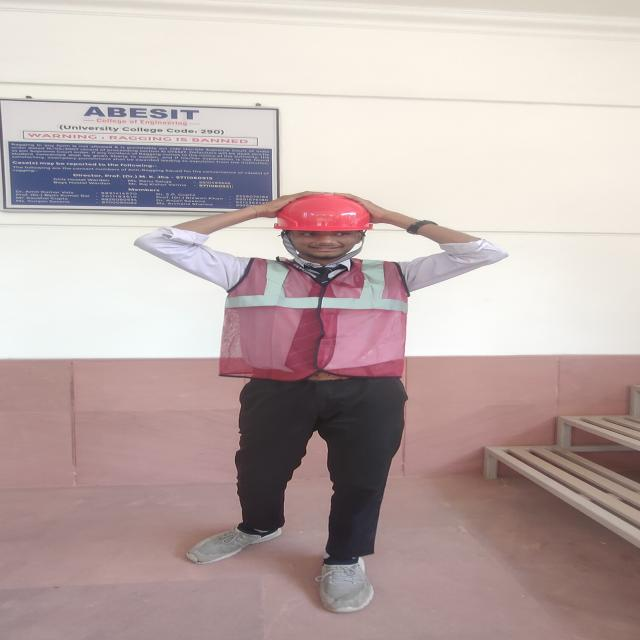safe: (218, 192, 410, 610)
